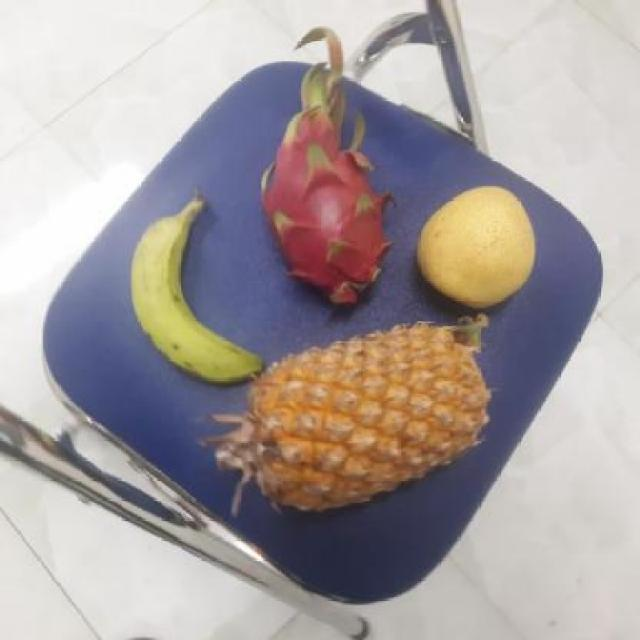banana: (128, 194, 258, 380)
dragon fruit: (262, 119, 395, 307)
pear: (411, 180, 535, 306)
pineapple: (218, 323, 484, 511)
